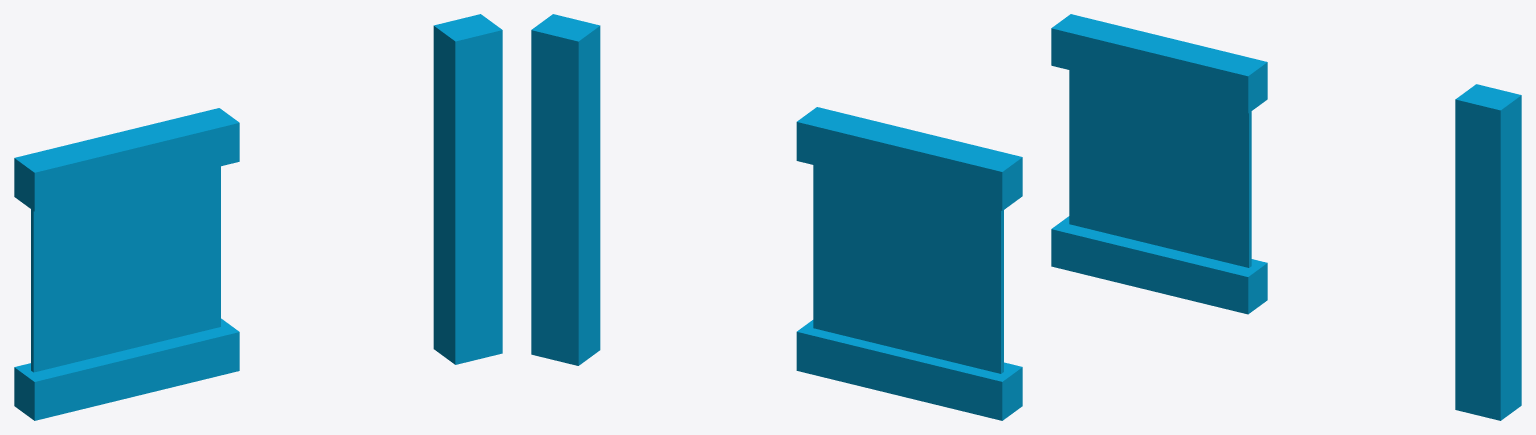
The model's file is Supermarket_Fence_02_Lod1.fbx.
3 views of the same model, side by side, from view 1: azimuth 30°, elevation 25°; view 2: azimuth 150°, elevation 25°; view 3: azimuth 330°, elevation 25° (orthographic). The views are drawn at different scales.
Parts seen in each view (by area): view 1: Supermarket_Fence_02_Lod1; view 2: Supermarket_Fence_02_Lod1; view 3: Supermarket_Fence_02_Lod1.
Part boxes in pixels (bbox=[...]): Supermarket_Fence_02_Lod1: bbox=[14, 14, 502, 420]; Supermarket_Fence_02_Lod1: bbox=[531, 14, 1022, 420]; Supermarket_Fence_02_Lod1: bbox=[1051, 14, 1521, 420].
Bounding box in the file's own units: 41.31 × 27.28 × 3.36.
